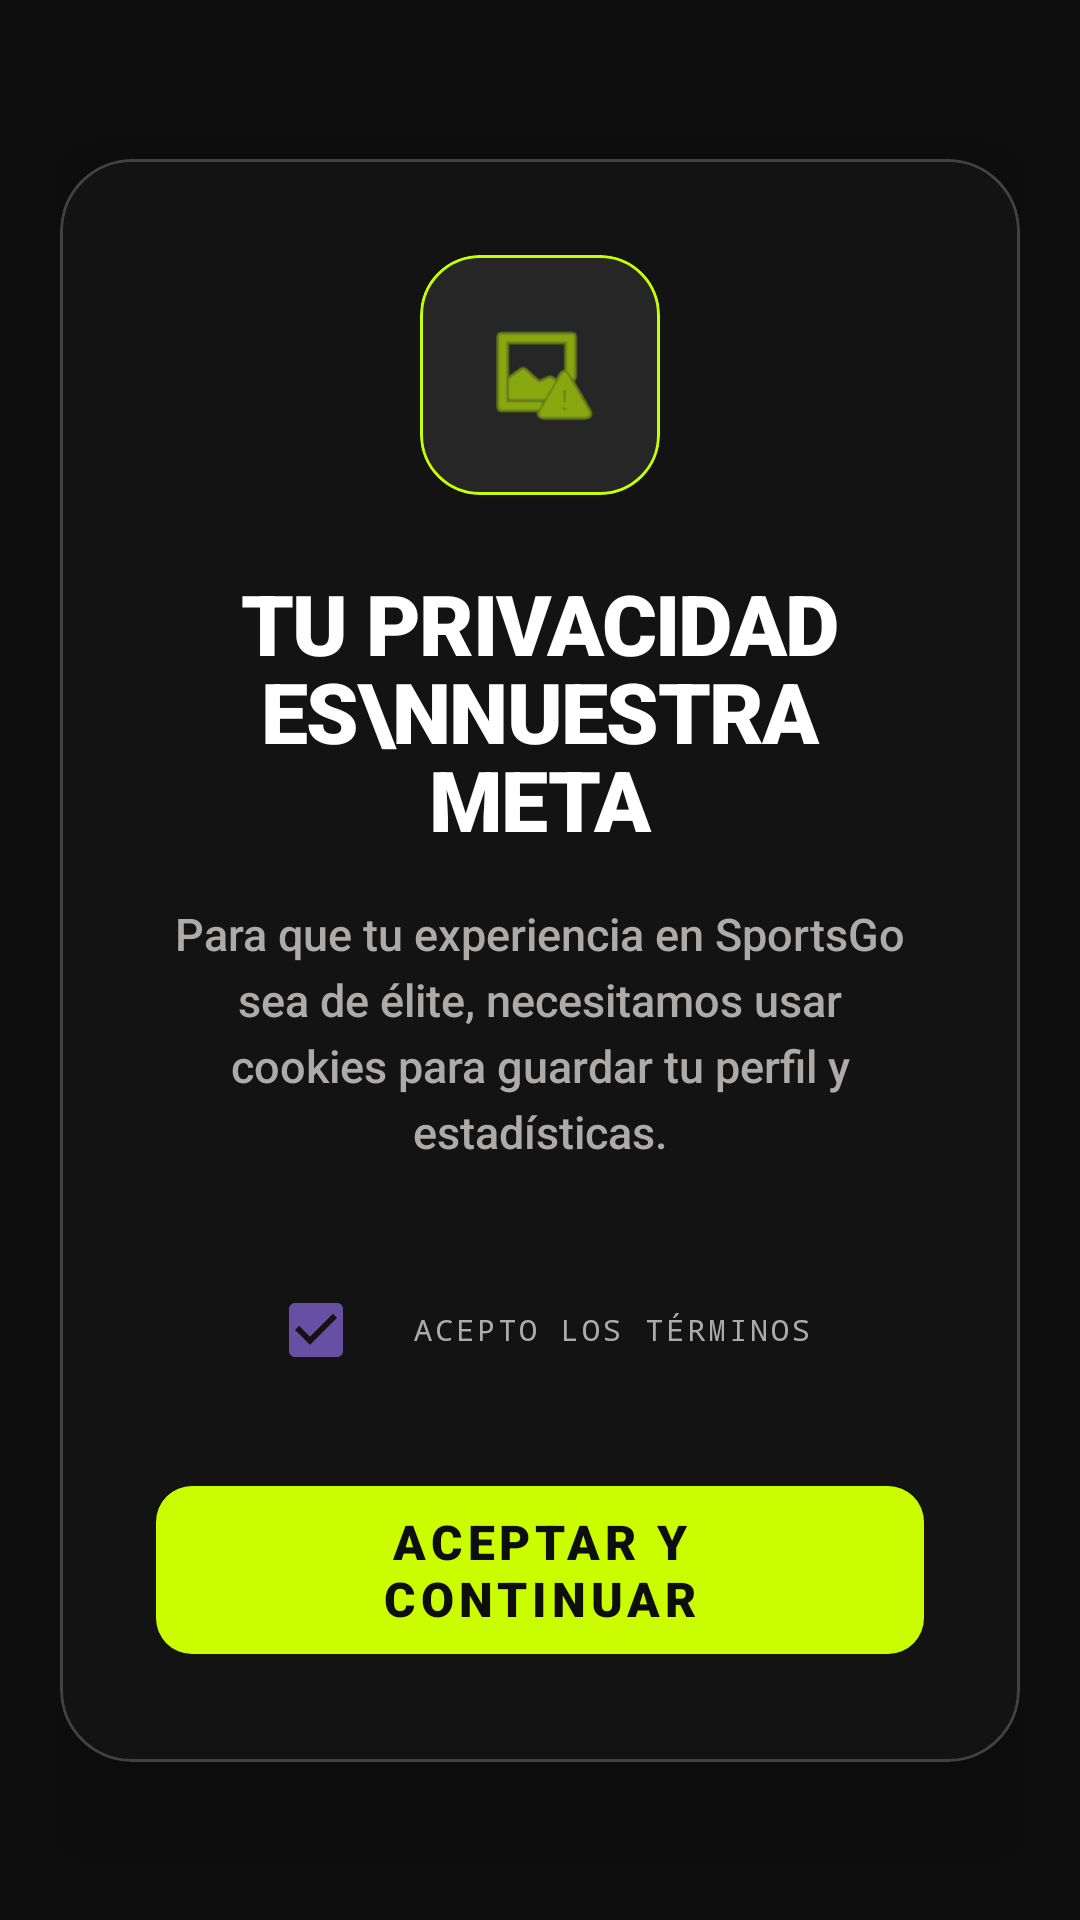

Icons on this 1080px x 1920px Android screen, each with its box as (x1, y1, x2, y2):
report: (496, 331, 593, 420)
